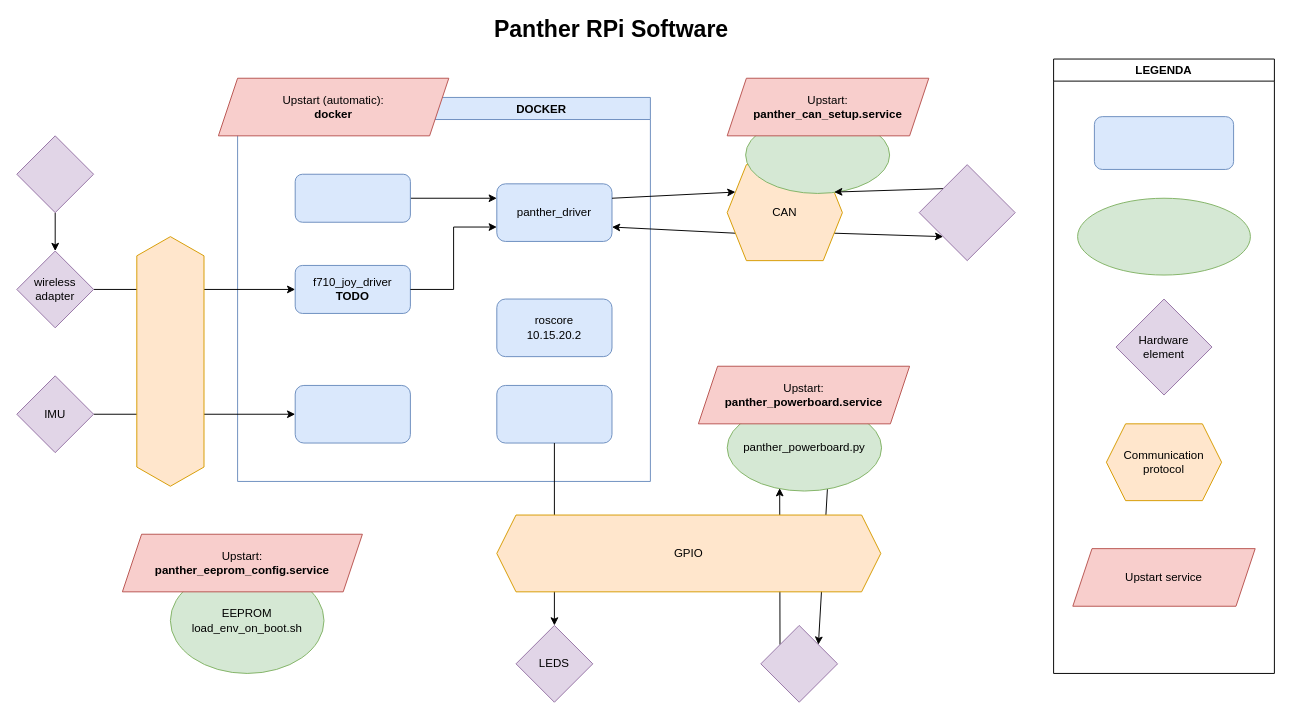
Some shapes in this 1291 by 719 pixel diagram are drawn without their labels. Each missing label, with the centre of its shape:
Docker container: the point at 1163,142
f710_joy: the point at 55,174
Front and rear Roboteq Motor drivers: the point at 966,212
imu_driver TODO: the point at 352,413
panther_can_setup.sh: the point at 817,154
panther_lights: the point at 554,413
POWER BOARD: the point at 799,663
Script: the point at 1163,236
USB: the point at 170,361
webui_joystick: the point at 352,197
